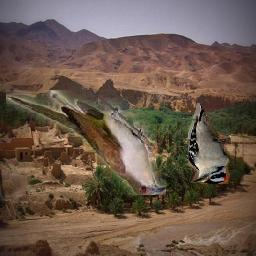Cuckoo: (6, 91, 166, 196)
Woodpecker: (189, 104, 232, 185)
